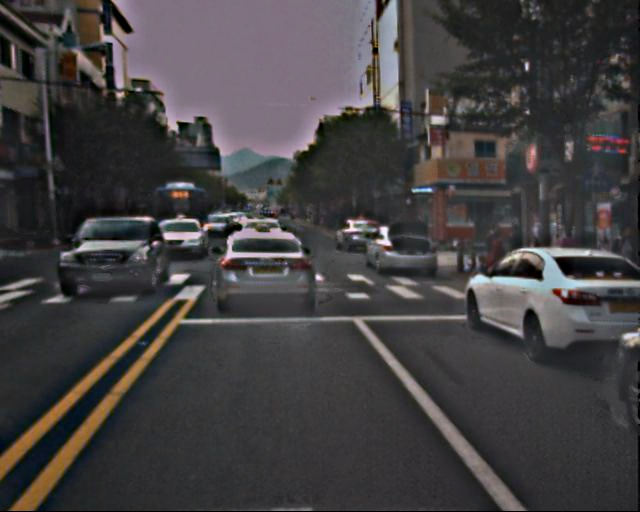person: (605, 227, 638, 307), (481, 230, 505, 289), (481, 223, 503, 284)
